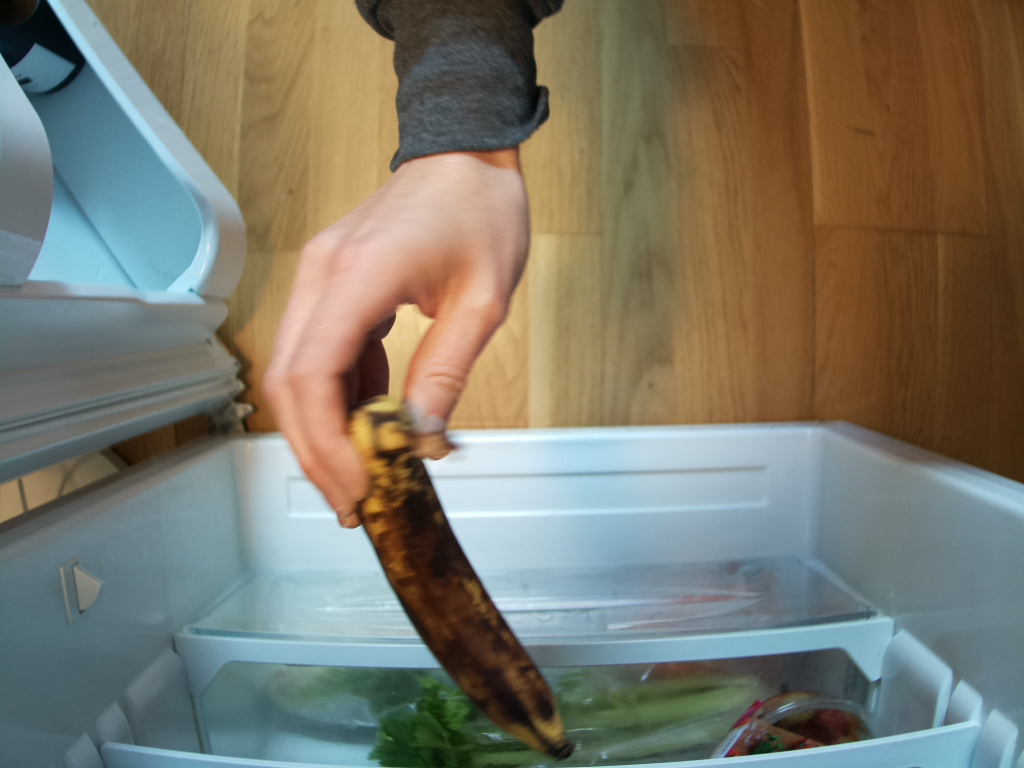banana-overripe: (352, 394, 570, 754)
